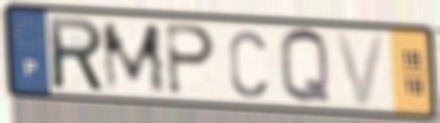C: (226, 27, 270, 101)
M: (98, 21, 170, 95)
P: (163, 20, 218, 98)
Q: (277, 25, 334, 107)
R: (45, 15, 108, 94)
V: (331, 29, 389, 109)
